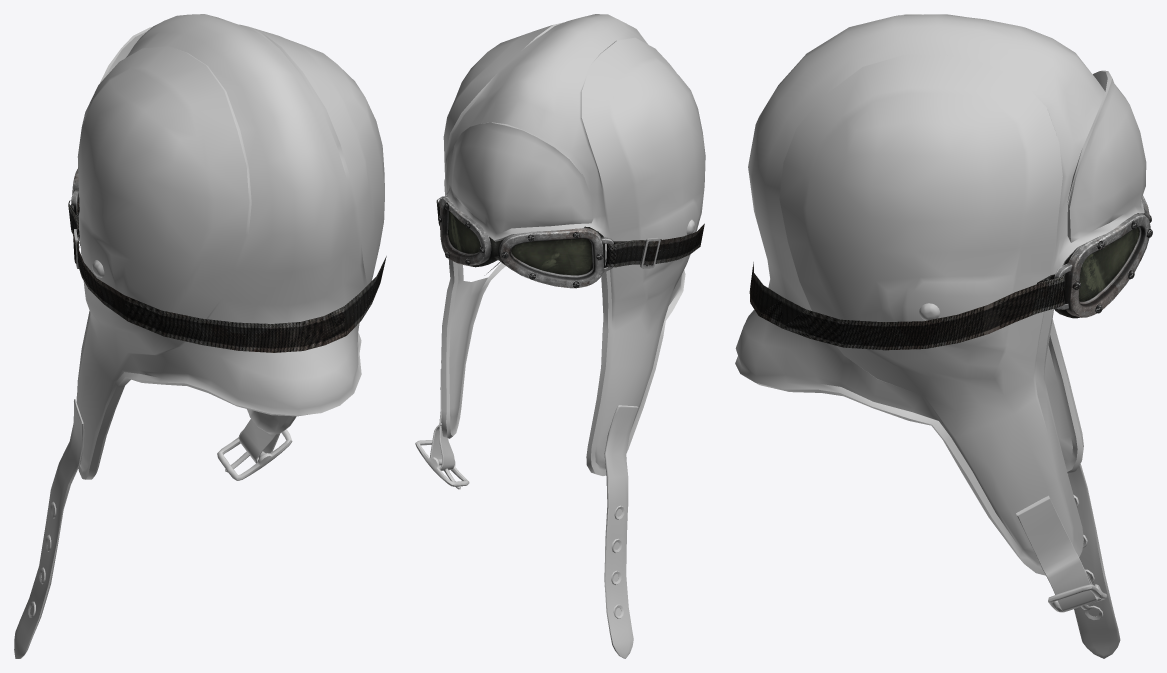
File: aviatorHelmet.gltf
3 views of the same model, side by side, from view 1: azimuth 30°, elevation 25°; view 2: azimuth 150°, elevation 25°; view 3: azimuth 270°, elevation 25° (orthographic). The views are drawn at different scales.
Visible parts, largest first — view 1: helmet, googles; view 2: helmet, googles; view 3: helmet, googles.
Boxes of the visible parts, <box> form: helmet: <box>14,14,384,658</box>; googles: <box>68,168,386,352</box>; helmet: <box>415,14,705,658</box>; googles: <box>436,195,704,288</box>; helmet: <box>735,14,1146,658</box>; googles: <box>749,195,1152,350</box>.
Bounding box in the file's own units: 1.95 × 4.38 × 2.32.
